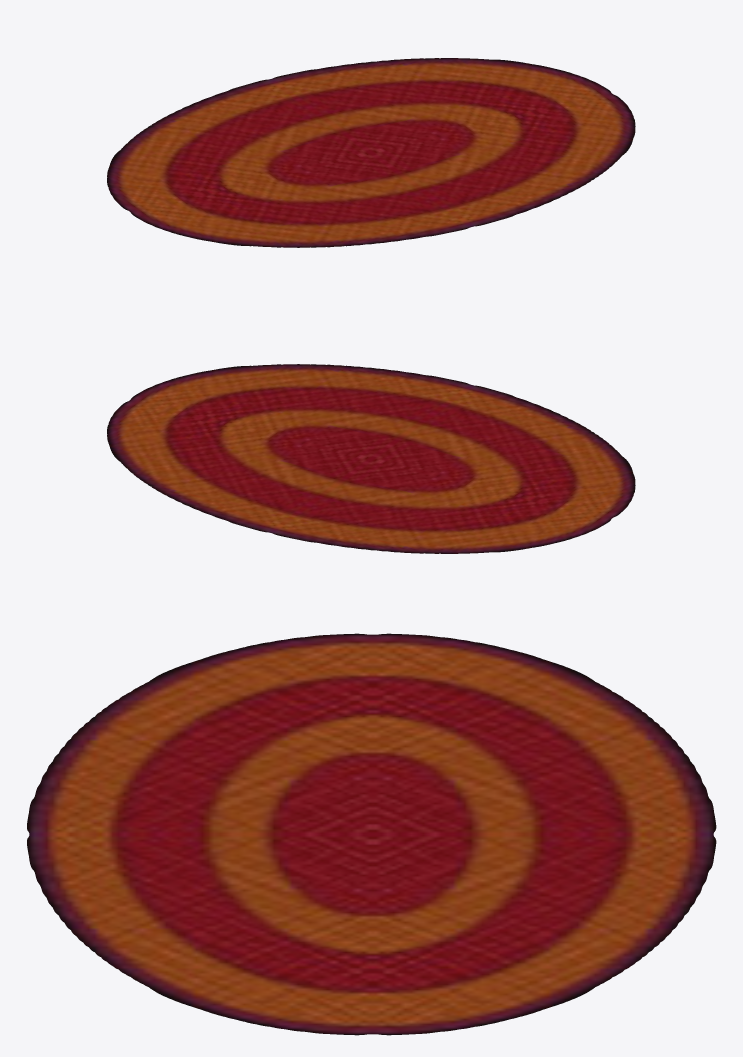
File: rugB.glb
3 renders of one model, top to bottom at view 1: azimuth 30°, elevation 25°; view 2: azimuth 150°, elevation 25°; view 3: azimuth 270°, elevation 25°, orthographic. The views are drawn at different scales.
Parts seen in each view (by area): view 1: pPlane3, pPlane4, pPlane5, pPlane1; view 2: pPlane4, pPlane3, pPlane1, pPlane5; view 3: pPlane3, pPlane4, pPlane1, pPlane5.
Boxes of the visible parts, box(x1,y1,x2,y2) form: pPlane3: box(130, 152, 471, 247); pPlane4: box(371, 94, 635, 226); pPlane5: box(271, 58, 611, 152); pPlane1: box(107, 79, 370, 211); pPlane4: box(130, 364, 471, 459); pPlane3: box(371, 385, 635, 517); pPlane1: box(271, 459, 611, 553); pPlane5: box(107, 400, 370, 532); pPlane3: box(27, 633, 372, 834); pPlane4: box(27, 834, 372, 1035); pPlane1: box(373, 633, 716, 834); pPlane5: box(373, 834, 716, 1035).
Bounding box in the file's own units: 2.74 × 0 × 1.98.
Materials: 1 (1 with a texture image).
